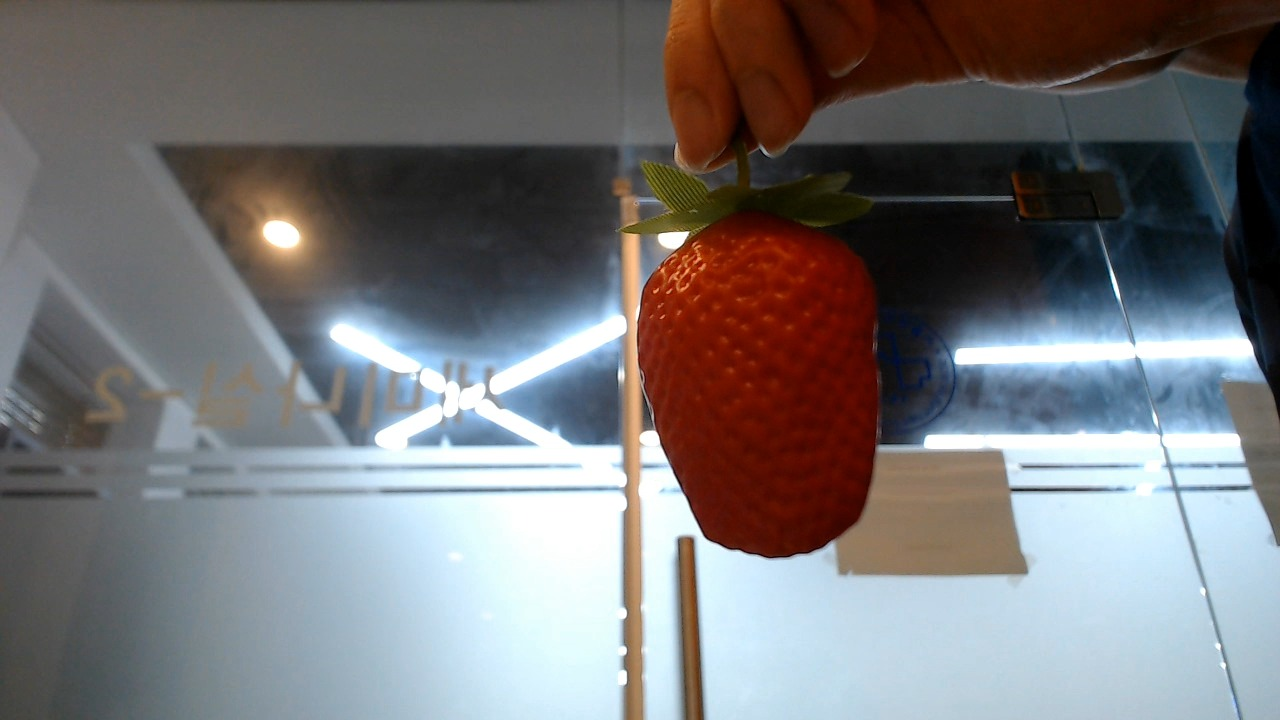strawberry: (635, 168, 880, 559)
